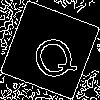Q: (25, 25, 80, 85)
